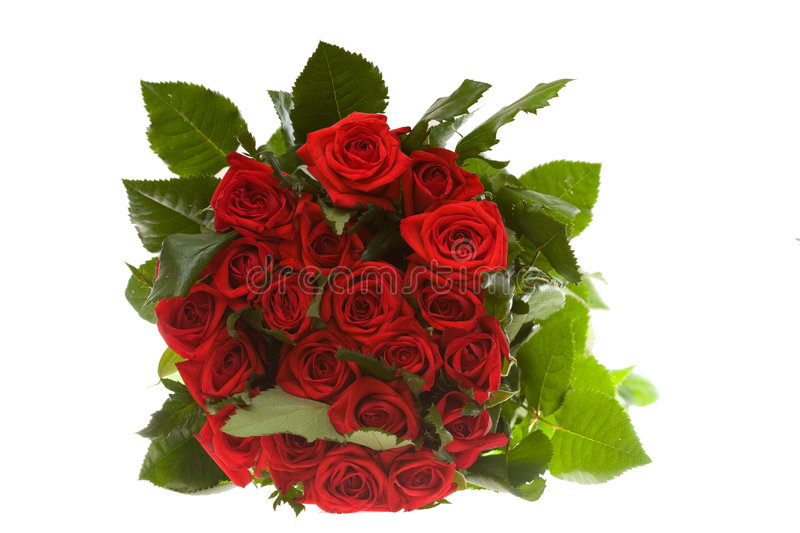RedRose: (290, 105, 409, 194), (432, 314, 516, 388), (409, 210, 519, 265), (203, 150, 284, 223), (170, 340, 262, 401), (321, 256, 395, 329), (435, 401, 520, 462), (205, 402, 269, 483), (152, 288, 223, 361), (331, 378, 416, 437), (370, 308, 436, 380), (425, 135, 492, 201), (387, 437, 445, 512), (297, 207, 359, 272), (325, 445, 381, 514), (212, 243, 269, 310), (282, 329, 340, 391), (408, 276, 483, 317), (276, 432, 328, 485), (262, 278, 311, 322)
